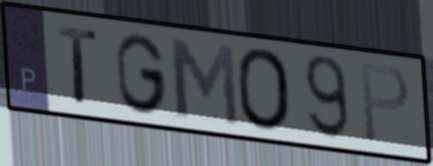9: (300, 53, 352, 142)
G: (113, 30, 171, 117)
M: (165, 34, 242, 130)
O: (234, 45, 295, 134)
P: (358, 61, 413, 146)
T: (56, 23, 101, 107)
